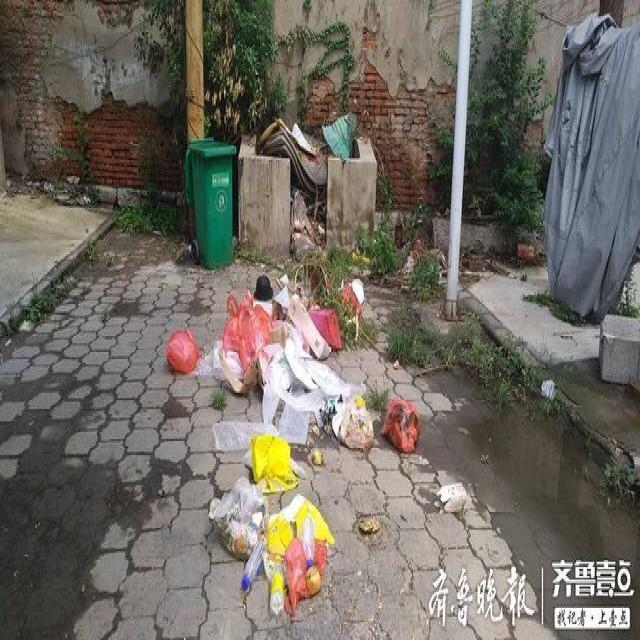garbage: (165, 275, 419, 617)
garbage_bin: (184, 135, 235, 269)
